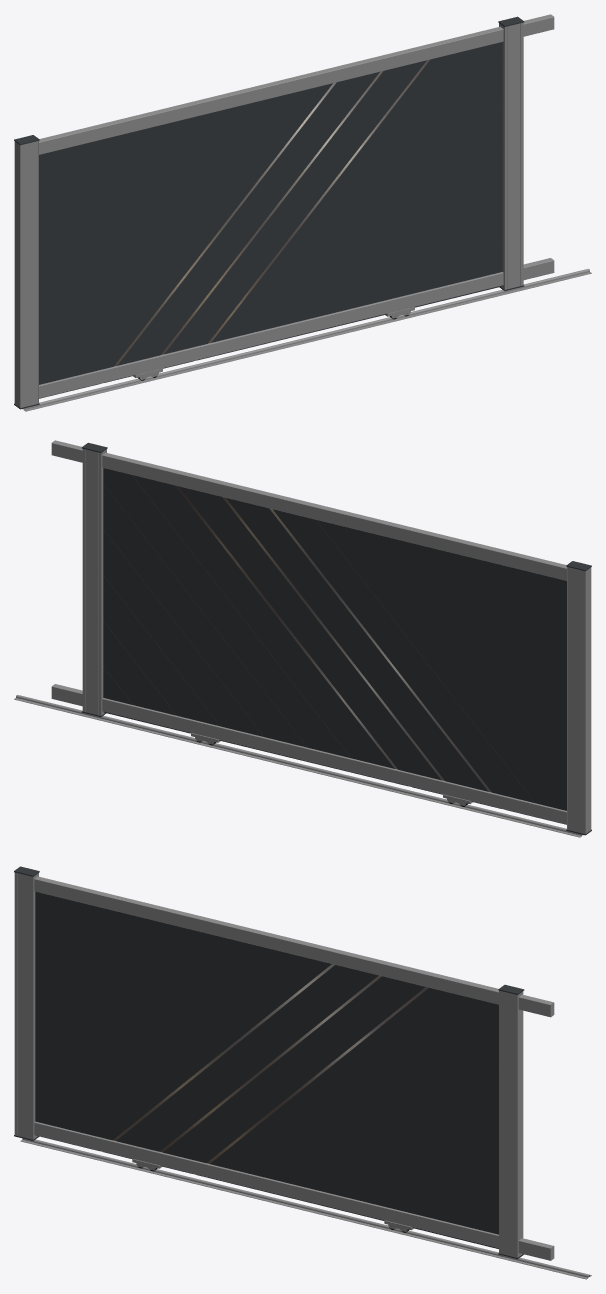
3 views of the same model, one above another, from view 1: azimuth 30°, elevation 25°; view 2: azimuth 150°, elevation 25°; view 3: azimuth 330°, elevation 25° (orthographic).
Visible parts, largest first — view 1: Shape107412838, Shape164, Shape163, Shape107412643, Shape107413021, Rail; view 2: Shape107412838, Shape164, Shape163, Shape107412643, Shape107413021, Rail; view 3: Shape107412838, Shape164, Shape163, Shape107413021, Shape107412643, Rail.
Part boxes in pixels (x1,y1,x2,y2): Shape107412838: (39,42,502,398); Shape164: (39,14,554,154); Shape163: (39,258,554,398); Shape107412643: (14,141,38,407); Shape107413021: (499,22,523,289); Rail: (22,269,591,411); Shape107412838: (103,468,566,824); Shape164: (51,440,566,580); Shape163: (51,684,566,824); Shape107412643: (567,567,591,833); Shape107413021: (82,449,106,715); Rail: (14,695,583,837); Shape107412838: (35,891,498,1248); Shape164: (34,876,554,1017); Shape163: (34,1121,554,1260); Shape107413021: (499,990,523,1257); Shape107412643: (14,872,38,1139); Rail: (20,1138,591,1279).
Size of the model in its own units: 3638 by 1636 by 70.
Materials: 9 (4 with a texture image).
